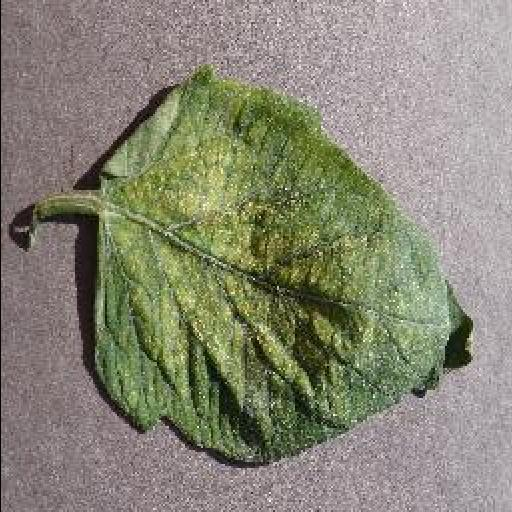disease_tomato: (88, 61, 476, 467)
